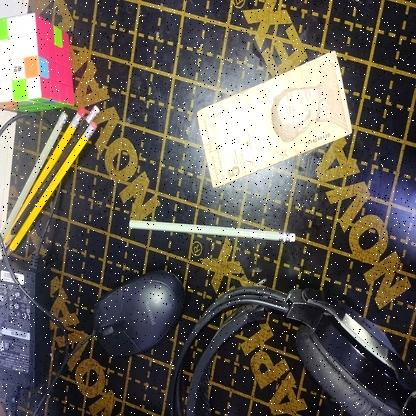five-front-vef: (196, 49, 352, 188)
